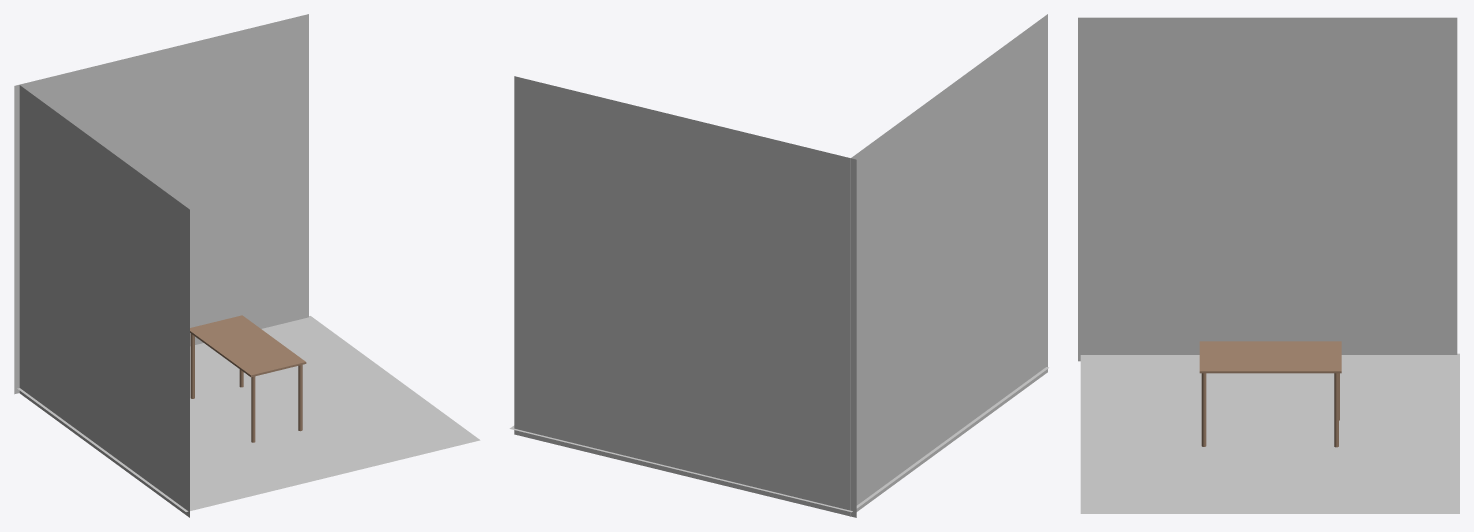
Rendered from environment1.fbx.
3 views of the same model, side by side, from view 1: azimuth 30°, elevation 25°; view 2: azimuth 150°, elevation 25°; view 3: azimuth 270°, elevation 25° (orthographic). The views are drawn at different scales.
Visible parts, largest first — view 1: wall1, wall2, floor, table; view 2: wall2, wall1, floor; view 3: wall1, floor, table, leg1.
Boxes of the visible parts, left/top/right/bottom form: wall1: left=19, top=85, right=189, bottom=517; wall2: left=14, top=14, right=308, bottom=394; floor: left=17, top=316, right=480, bottom=511; table: left=190, top=315, right=306, bottom=377; wall2: left=514, top=76, right=856, bottom=517; wall1: left=850, top=14, right=1047, bottom=516; floor: left=509, top=367, right=1048, bottom=512; wall1: left=1078, top=17, right=1457, bottom=361; floor: left=1080, top=353, right=1459, bottom=513; table: left=1199, top=341, right=1341, bottom=373; leg1: left=1201, top=373, right=1206, bottom=446.
Size of the model in its own units: 1616 by 1603 by 1611.
